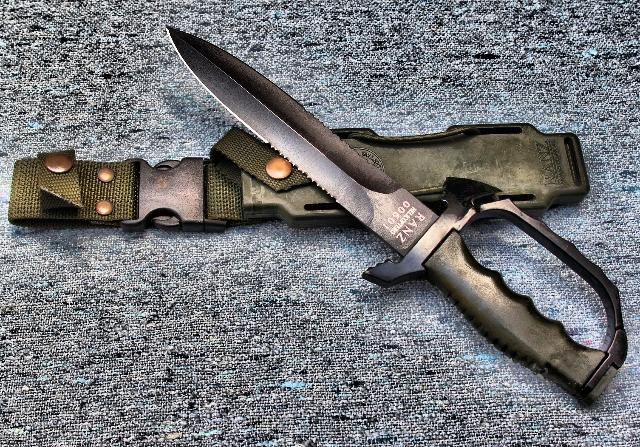knife: (159, 15, 475, 291)
